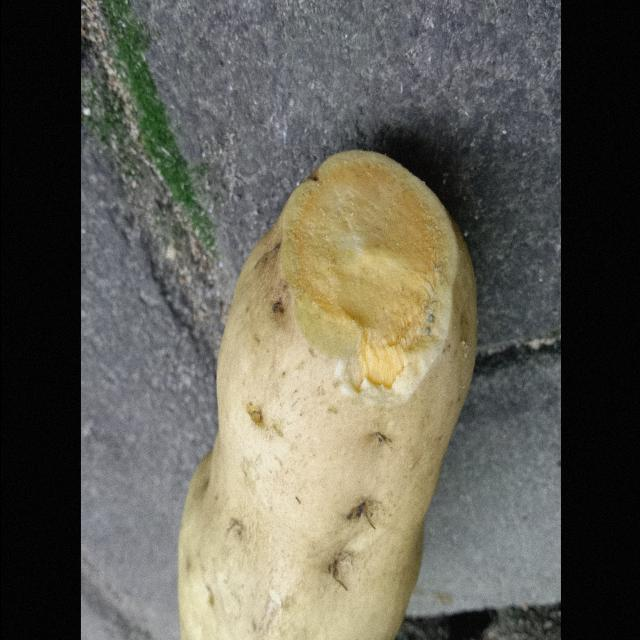Healthy Sweet Potato: (280, 152, 458, 405)
